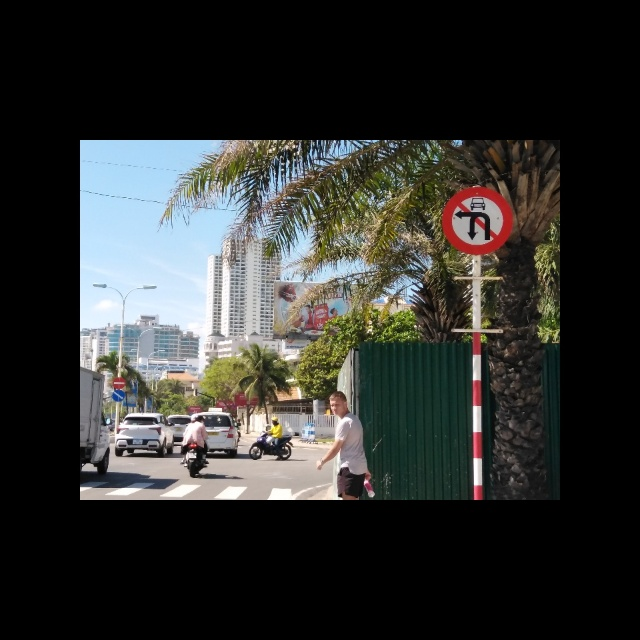Cấm xe ô tô quay đầu và rẽ trái: (440, 187, 512, 256)
